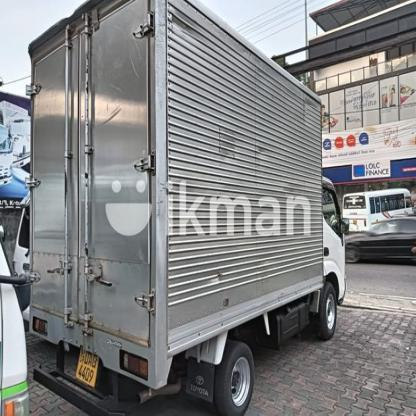Lorry back: (21, 0, 352, 416)
number plate: (75, 349, 102, 386)
